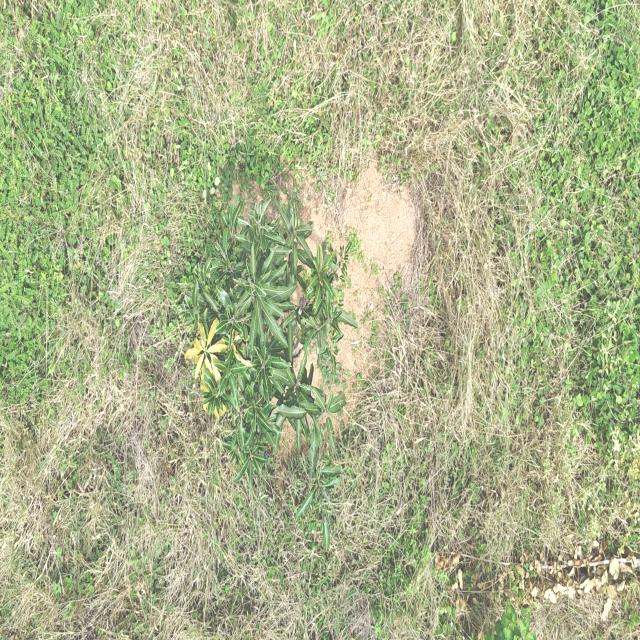mangoTree: (182, 188, 360, 557)
notMangoTree: (472, 602, 554, 640)
